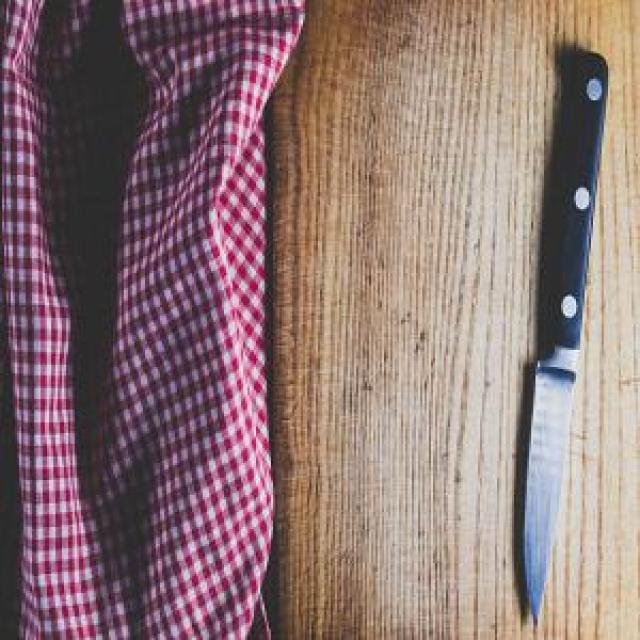knife: (519, 49, 610, 635)
